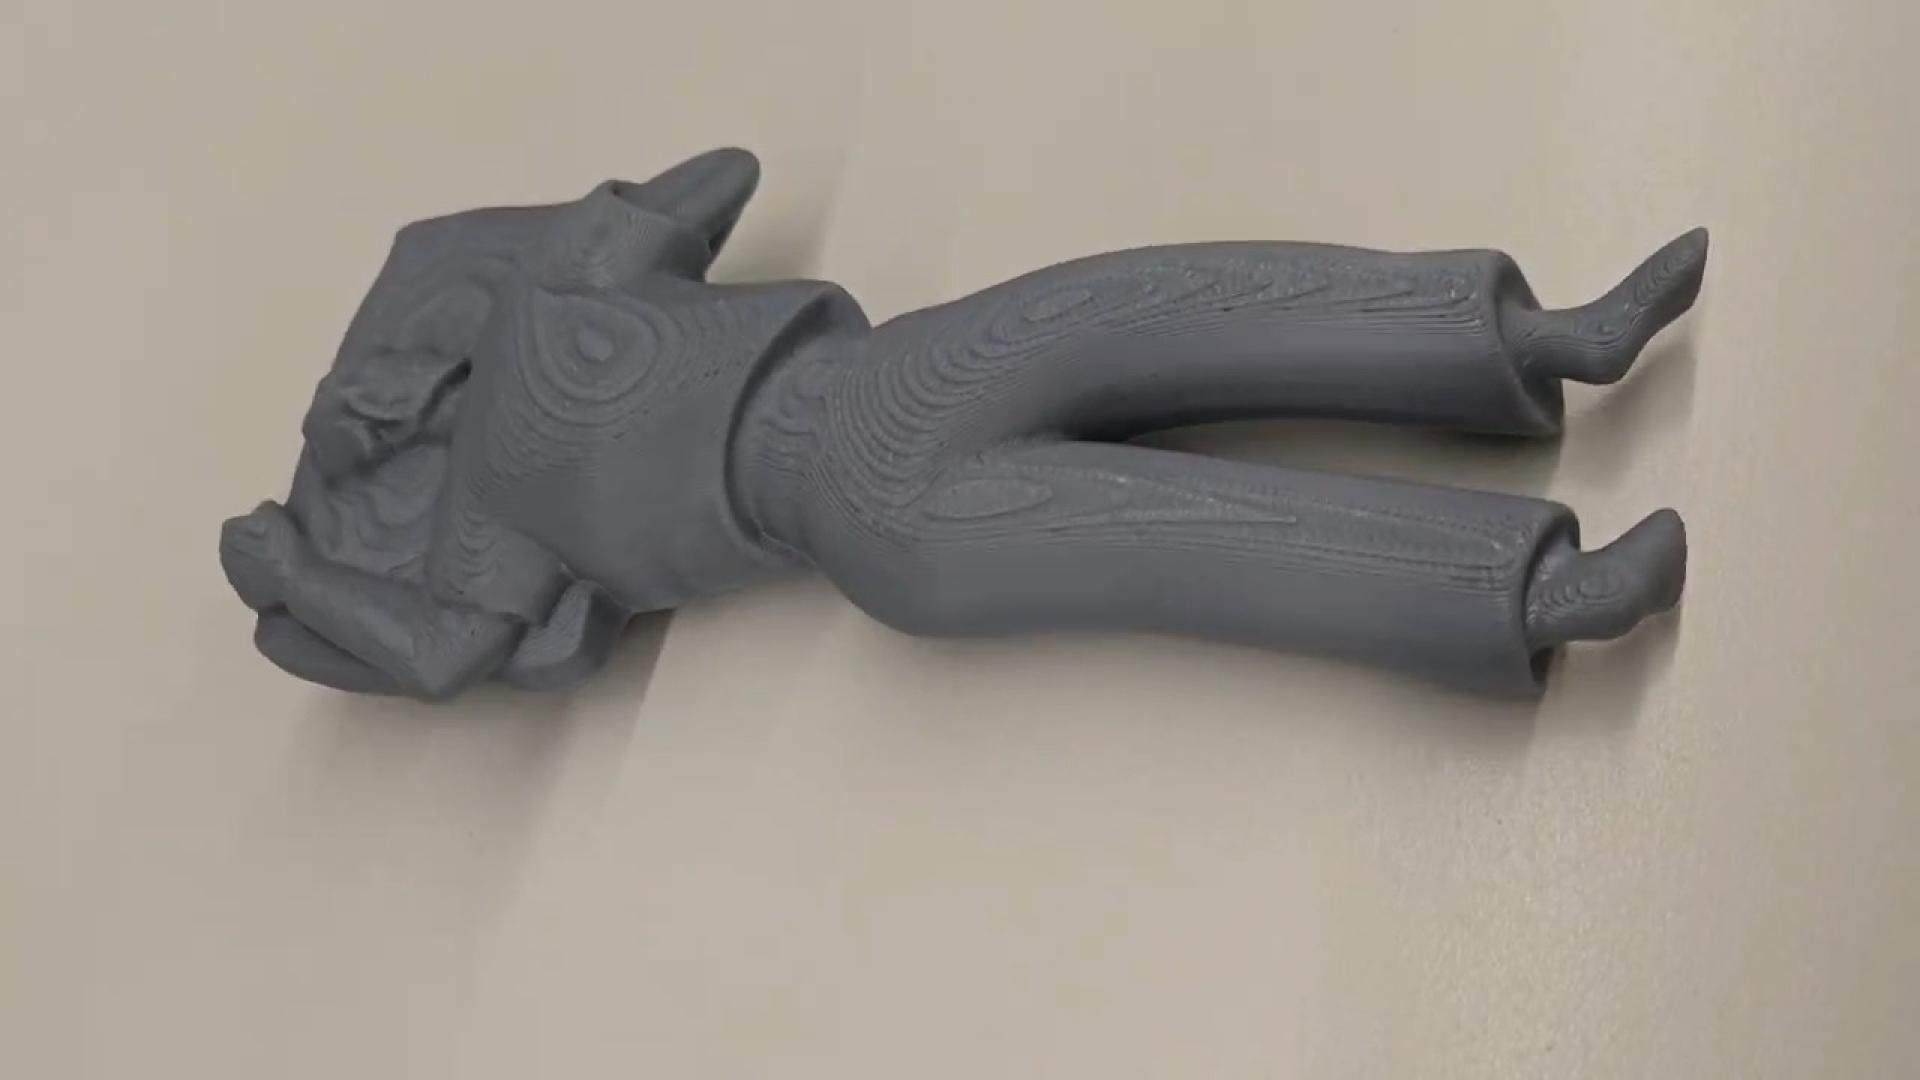Bad-style: (216, 138, 1729, 742)
